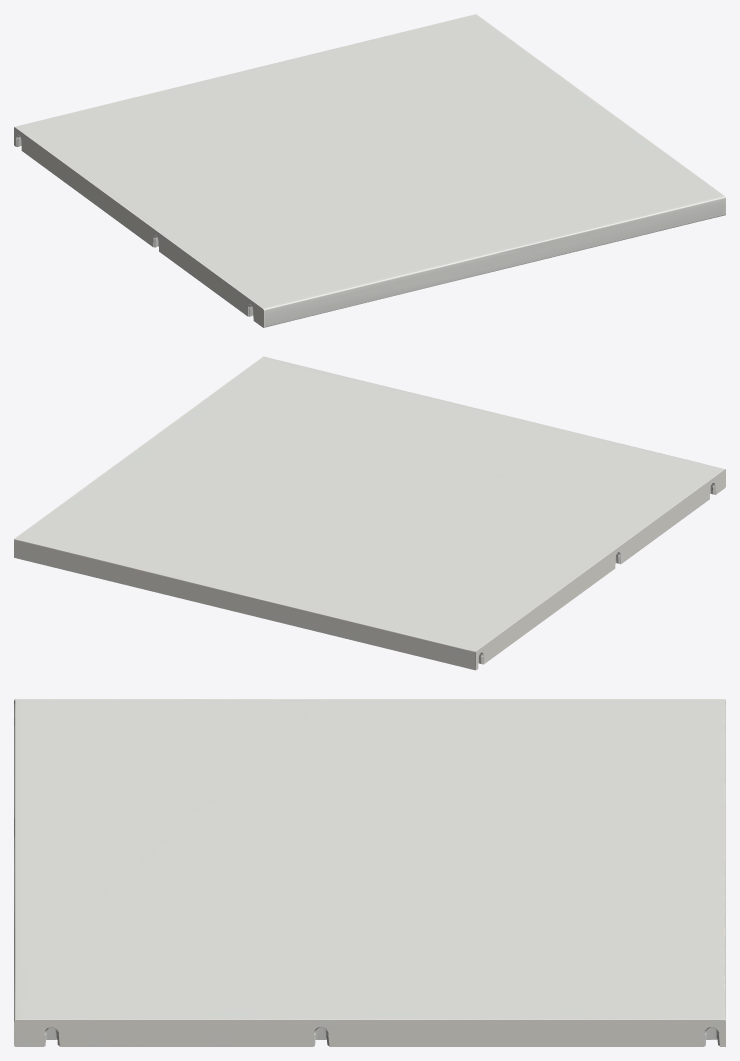
The model's file is hjalpa_poka_90331166.glb.
The picture shows the model from 3 angles, top to bottom: view 1: azimuth 30°, elevation 25°; view 2: azimuth 150°, elevation 25°; view 3: azimuth 270°, elevation 25°; orthographic projection. The views are drawn at different scales.
Visible parts, largest first — view 1: hjalpa_poka_90331166; view 2: hjalpa_poka_90331166; view 3: hjalpa_poka_90331166.
Boxes of the visible parts, x1,y1,x2,y2 form: hjalpa_poka_90331166: [14, 14, 725, 327]; hjalpa_poka_90331166: [14, 356, 725, 670]; hjalpa_poka_90331166: [14, 699, 725, 1046].
Size of the model in its own units: 0.564 by 0.022 by 0.5285.
Materials: 1 (1 with a texture image).
